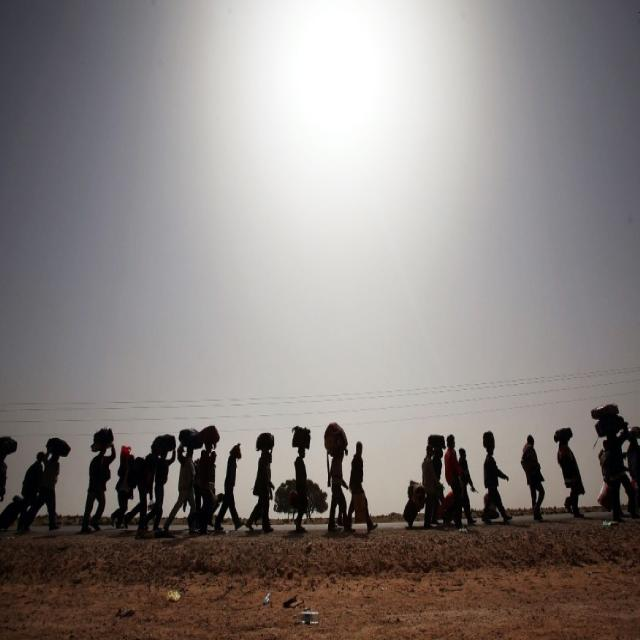Walking: (128, 437, 176, 535), (19, 445, 63, 530), (597, 436, 636, 518), (80, 441, 112, 532), (166, 443, 196, 534), (194, 426, 220, 528), (483, 432, 511, 524), (328, 422, 350, 534), (215, 444, 242, 532), (556, 432, 583, 517), (345, 459, 376, 529), (444, 434, 466, 529), (248, 445, 272, 530), (290, 427, 309, 532), (521, 434, 544, 519), (111, 450, 135, 528), (0, 440, 20, 530), (456, 448, 478, 526), (424, 438, 443, 528), (623, 428, 639, 514), (190, 455, 204, 532), (404, 480, 427, 525)
